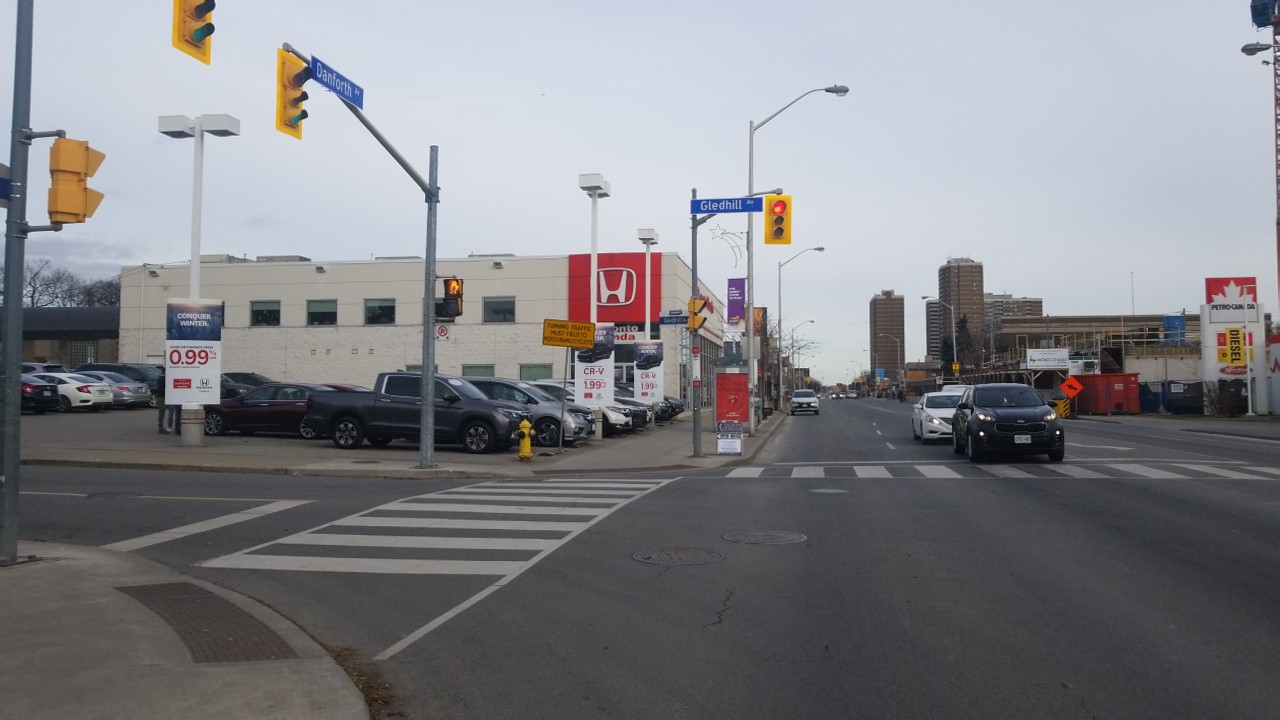light: (441, 276, 463, 317)
